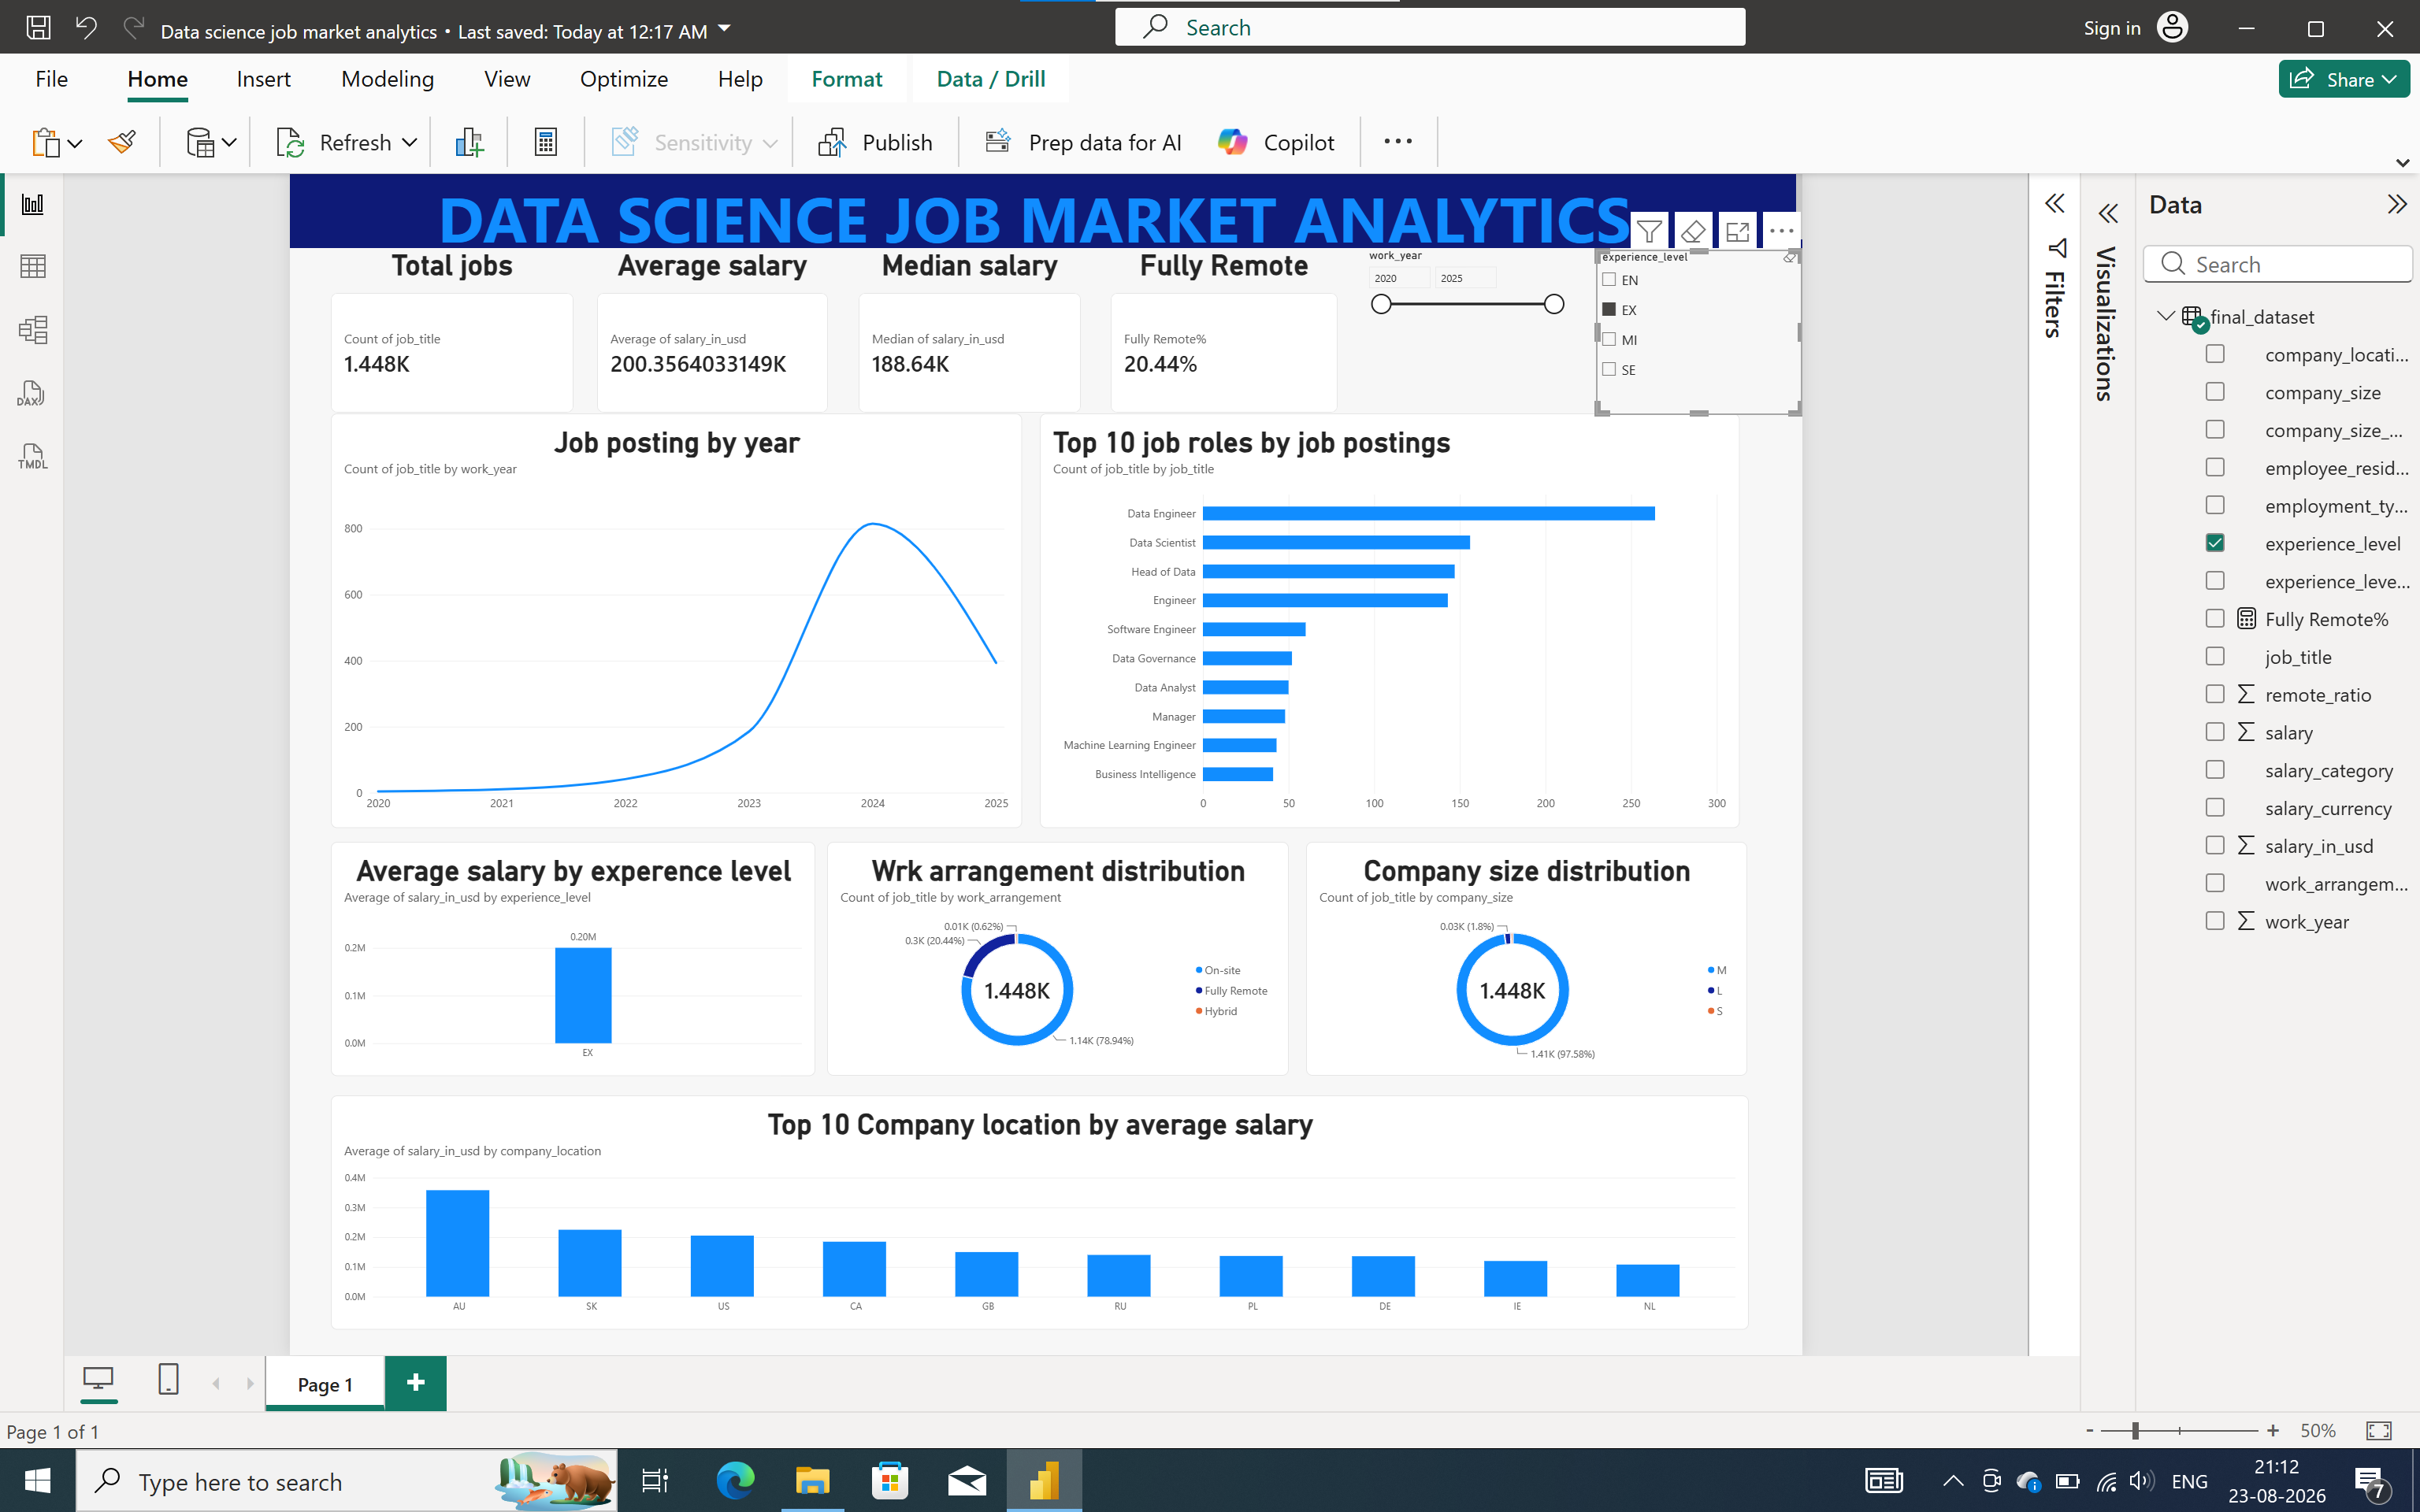

The page's visual inventory and layout, read from the dashboard file:
{"tool":"powerbi","page":{"name":"Page 1","canvas":[1920,1500],"ordinal":0},"visuals":[{"type":"cardVisual","title":"Average salary","fields":{"Data":["Avg(final_dataset.salary_in_usd)"]},"box":[389.6,94.2,293.2,209.8],"z":1},{"type":"cardVisual","title":"Median salary","fields":{"Data":["Median(final_dataset.salary_in_usd)"]},"box":[721.3,94.2,282.5,209.8],"z":3},{"type":"cardVisual","title":"Fully Remote","fields":{"Data":["final_dataset.Fully Remote%"]},"box":[1042.4,94.2,289,209.8],"z":4},{"type":"lineChart","title":"Job posting by year ","fields":{"Category":["final_dataset.work_year"],"Y":["CountNonNull(final_dataset.job_title)"]},"box":[51.4,303.9,877.6,526.6],"z":5},{"type":"clusteredBarChart","title":"Top 10 job roles by job postings","fields":{"Category":["final_dataset.job_title"],"Y":["CountNonNull(final_dataset.job_title)"]},"box":[952.5,303.9,888.3,526.6],"z":6},{"type":"clusteredColumnChart","title":"Average salary by experence level ","fields":{"Category":["final_dataset.experience_level"],"Y":["Avg(final_dataset.salary_in_usd)"]},"box":[51.4,847.6,615.2,297.7],"z":7},{"type":"donutChart","title":"Wrk arrangement distribution","fields":{"Category":["final_dataset.work_arrangement"],"Y":["CountNonNull(final_dataset.job_title)"]},"box":[682.8,847.6,586,297],"z":8},{"type":"cardVisual","title":"Total jobs","fields":{"Data":["CountNonNull(final_dataset.job_title)"]},"box":[51.4,94.2,308.2,209.8],"z":9},{"type":"donutChart","title":"Company size distribution ","fields":{"Category":["final_dataset.company_size"],"Y":["CountNonNull(final_dataset.job_title)"]},"box":[1290.7,847.6,560,297],"z":10},{"type":"clusteredColumnChart","title":"Top 10 Company location by average  salary","fields":{"Category":["final_dataset.company_location"],"Y":["Avg(final_dataset.salary_in_usd)"]},"box":[51.4,1170.8,1800.1,297.5],"z":11},{"type":"textbox","box":[0,0,1920,94.2],"z":12},{"type":"slicer","fields":{"Values":["final_dataset.work_year"]},"box":[1362,94,259,209.8],"z":13},{"type":"slicer","fields":{"Values":["final_dataset.experience_level"]},"box":[1658,96,262,210],"z":14}]}

Visuals, with their boxes on the page's 1920x1500 design canvas (x1, y1, x2, y2). These are canvas units, not pixel positions in the 2420x1512 screenshot, which may show the page scaled, cropped or inside an application window:
"Average salary" cardVisual: 390/94/683/304
"Median salary" cardVisual: 721/94/1004/304
"Fully Remote" cardVisual: 1042/94/1331/304
"Job posting by year " lineChart: 51/304/929/830
"Top 10 job roles by job postings" clusteredBarChart: 952/304/1841/830
"Average salary by experence level " clusteredColumnChart: 51/848/667/1145
"Wrk arrangement distribution" donutChart: 683/848/1269/1145
"Total jobs" cardVisual: 51/94/360/304
"Company size distribution " donutChart: 1291/848/1851/1145
"Top 10 Company location by average  salary" clusteredColumnChart: 51/1171/1852/1468
textbox: 0/0/1920/94
slicer - final_dataset.work_year: 1362/94/1621/304
slicer - final_dataset.experience_level: 1658/96/1920/306
